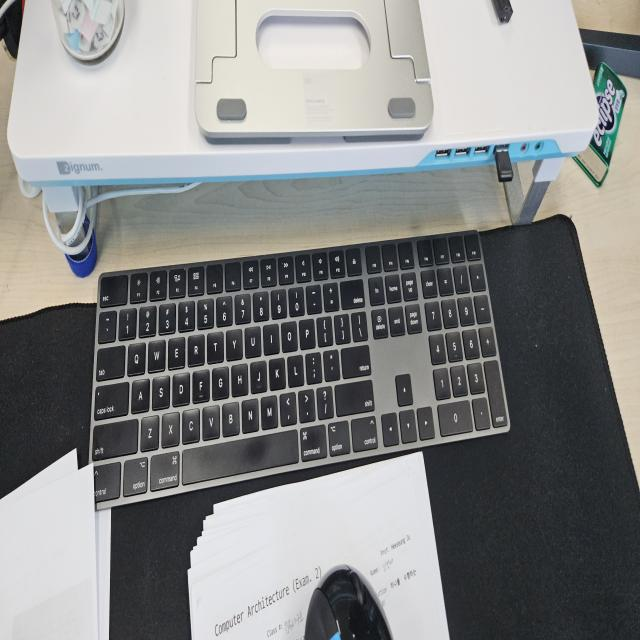Keyboard: (87, 228, 511, 510)
Mouse: (302, 561, 394, 638)
